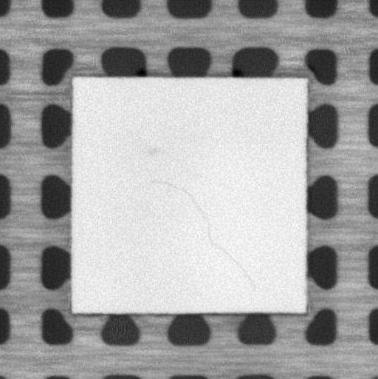DIE_CRACK: (150, 176, 254, 291)
